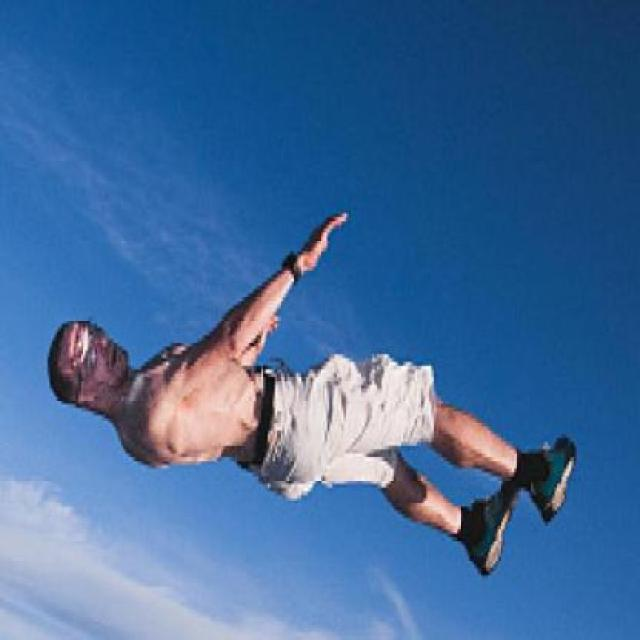fall: (41, 214, 582, 574)
